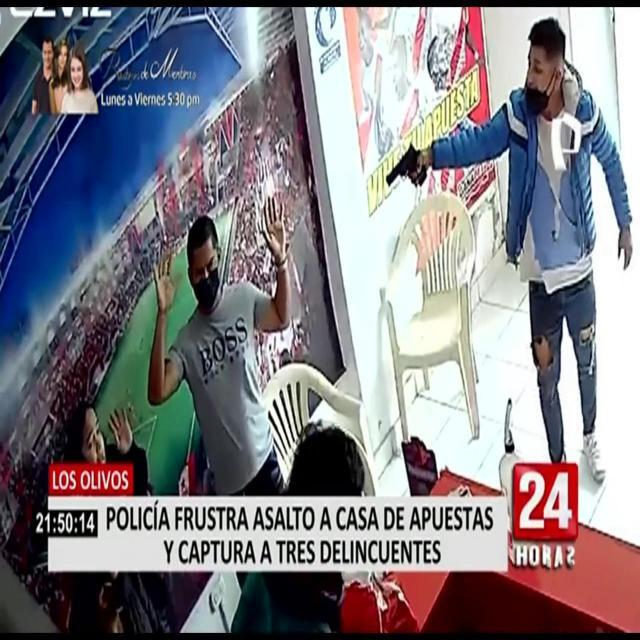weapon: (370, 120, 436, 210)
